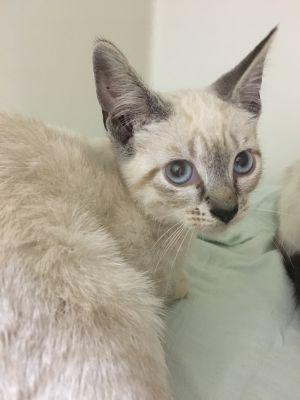siamese: (87, 27, 289, 241)
